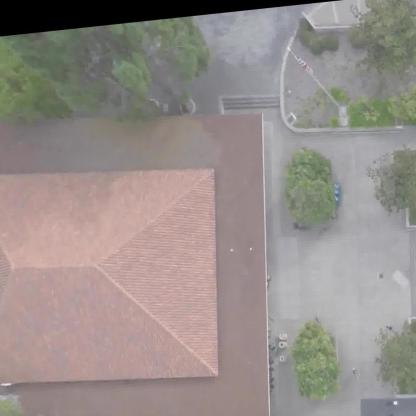Pedestrian: (310, 312, 322, 326), (350, 366, 362, 380), (384, 319, 394, 335)
